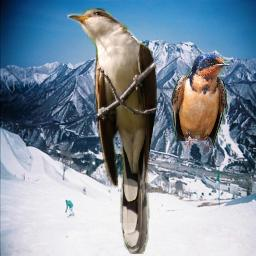Cuckoo: (67, 8, 159, 254)
Swallow: (171, 52, 230, 154)
